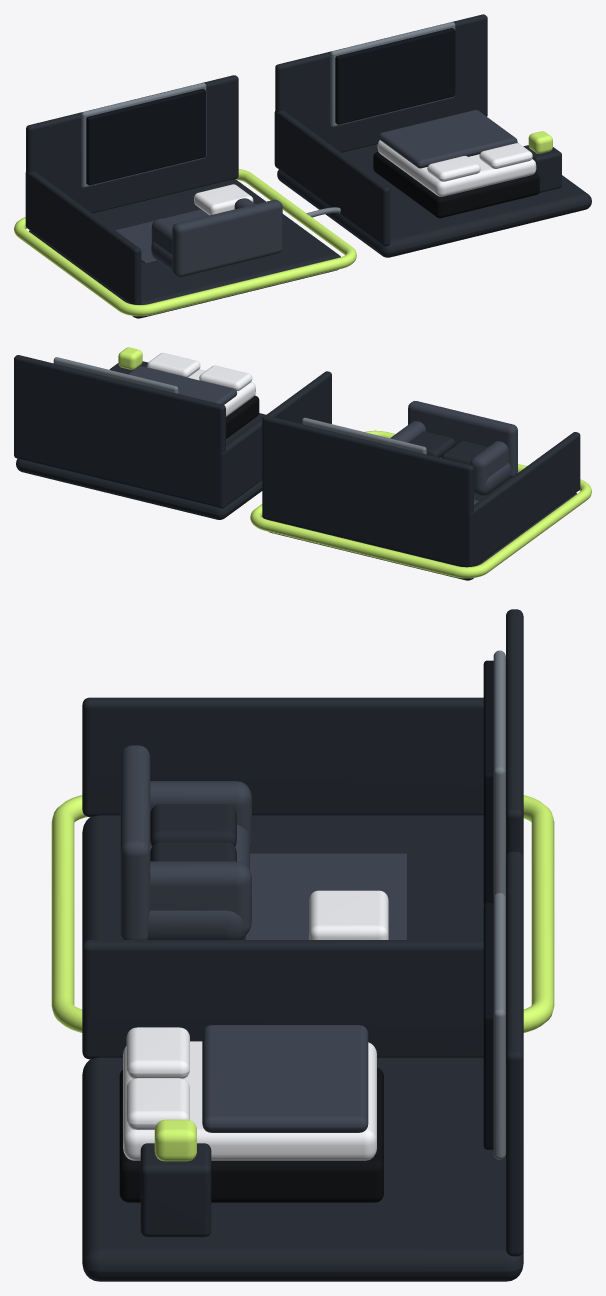
File: remote-rooms.glb
3 renders of one model, top to bottom at view 1: azimuth 30°, elevation 25°; view 2: azimuth 150°, elevation 25°; view 3: azimuth 270°, elevation 25°, orthographic. The views are drawn at different scales.
Visible parts, largest first — view 1: RoomLivingBackWall, RoomBedroomBackWall, RoomBedroomPlatform, RoomBedroomTVBlank, RoomLivingTVBlank, RoomLivingPlatform, RoomLivingSideWall, RoomBedroomSideWall, SofaBack, RoomSelection, BedDuvet, BedFrame (+10 smaller); view 2: RoomBedroomBackWall, RoomLivingBackWall, RoomLivingSideWall, RoomSelection, RoomBedroomSideWall, RoomBedroomPlatform, SofaBack, BedDuvet, SofaArm-0.54, RoomBedroomTV, RoomLivingTV, BedPillow-0.22 (+9 smaller); view 3: RoomBedroomPlatform, RoomLivingSideWall, RoomBedroomSideWall, RoomLivingPlatform, BedDuvet, RoomSelection, LivingRug, BedFrame, BedMattress, RoomBedroomBackWall, Bedside, SofaBack (+14 smaller).
Part boxes in pixels (left/top/right/bottom): RoomLivingBackWall: left=26, top=75, right=238, bottom=213; RoomBedroomBackWall: left=275, top=14, right=487, bottom=152; RoomBedroomPlatform: left=277, top=142, right=591, bottom=257; RoomBedroomTVBlank: left=335, top=28, right=455, bottom=124; RoomLivingTVBlank: left=86, top=88, right=205, bottom=185; RoomLivingPlatform: left=29, top=179, right=340, bottom=318; RoomLivingSideWall: left=25, top=171, right=141, bottom=304; RoomBedroomSideWall: left=274, top=110, right=390, bottom=246; SofaBack: left=172, top=199, right=282, bottom=277; RoomSelection: left=14, top=169, right=356, bottom=316; BedDuvet: left=379, top=110, right=517, bottom=168; BedFrame: left=373, top=151, right=539, bottom=218; RoomBedroomBackWall: left=14, top=355, right=225, bottom=507; RoomLivingBackWall: left=262, top=415, right=473, bottom=567; RoomLivingSideWall: left=466, top=432, right=580, bottom=567; RoomSelection: left=250, top=430, right=591, bottom=578; RoomBedroomSideWall: left=218, top=371, right=331, bottom=508; RoomBedroomPlatform: left=16, top=413, right=265, bottom=519; SofaBack: left=408, top=401, right=517, bottom=478; BedDuvet: left=128, top=366, right=236, bottom=404; SofaArm-0.54: left=470, top=441, right=508, bottom=493; RoomBedroomTV: left=53, top=357, right=178, bottom=393; RoomLivingTV: left=302, top=417, right=426, bottom=454; BedPillow-0.22: left=199, top=365, right=252, bottom=390; RoomBedroomPlatform: left=82, top=1057, right=523, bottom=1281; RoomLivingSideWall: left=82, top=697, right=483, bottom=816; RoomBedroomSideWall: left=82, top=940, right=483, bottom=1059; RoomLivingPlatform: left=82, top=815, right=483, bottom=946; BedDuvet: left=202, top=1025, right=368, bottom=1132; RoomSelection: left=51, top=795, right=554, bottom=1032; LivingRug: left=244, top=853, right=406, bottom=939; BedFrame: left=119, top=1067, right=383, bottom=1202; BedMattress: left=123, top=1041, right=376, bottom=1160; RoomBedroomBackWall: left=506, top=851, right=523, bottom=1256; Bedside: left=140, top=1143, right=211, bottom=1237; SofaBack: left=120, top=745, right=150, bottom=939.
Size of the model in its own units: 6.17 by 1.51 by 2.85.
